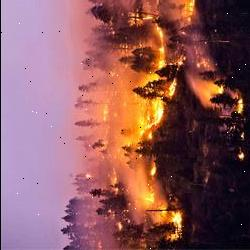fire: (122, 1, 182, 241), (75, 57, 120, 214), (188, 76, 250, 122)
